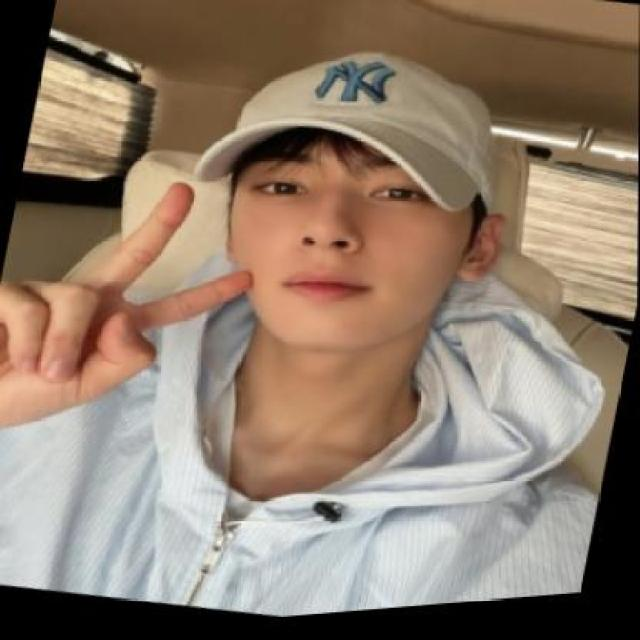hat: (189, 12, 533, 252)
